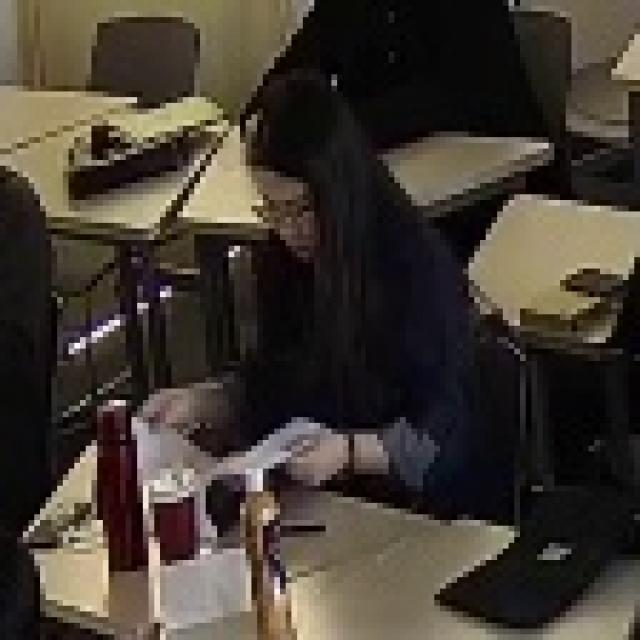write: (170, 76, 478, 500)
